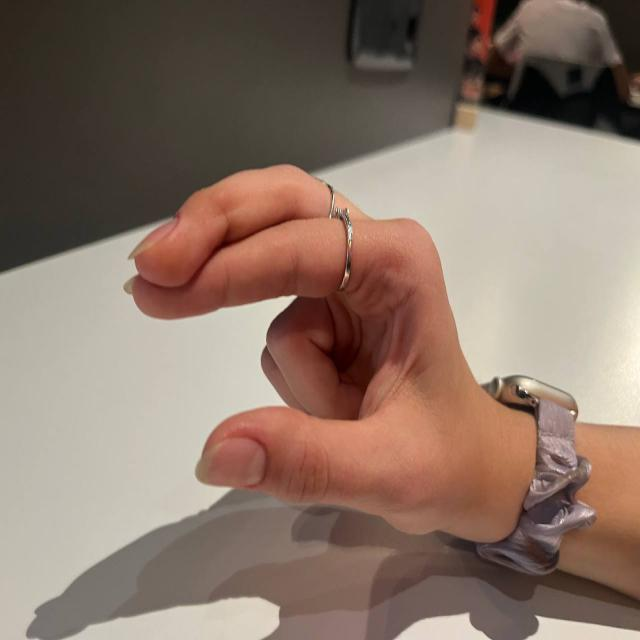ia: (118, 168, 498, 532)
